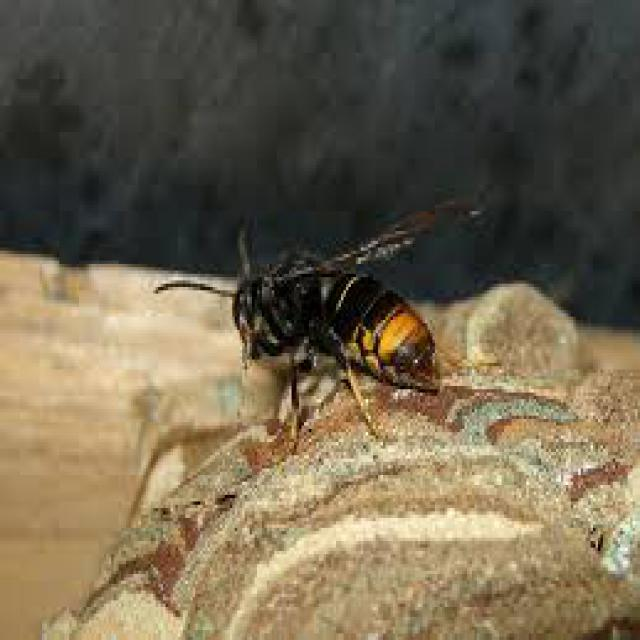Vespa Velutina: (147, 184, 488, 466)
